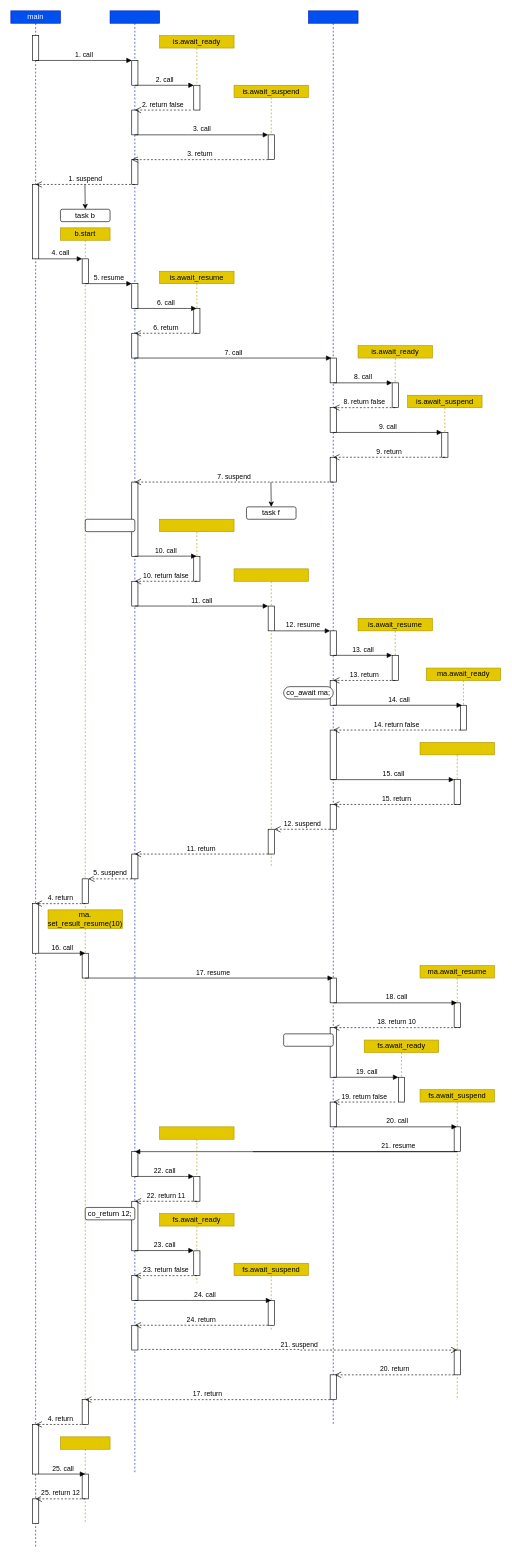
The diagram is 512 pixels wide and 1559 high, and some of its shapes have lost their labels. Each missing label, with the box of its shape:
b.get_result: (60, 1436, 110, 1524)
bar: (109, 10, 160, 1474)
co_await f;: (85, 519, 135, 532)
co_return 11;: (283, 1033, 333, 1046)
f.await_ready: (159, 519, 234, 581)
f.await_resume: (159, 1126, 234, 1207)
f.await_suspend: (233, 568, 308, 866)
foo: (308, 10, 358, 1424)
ma.await_suspend: (419, 742, 494, 804)
